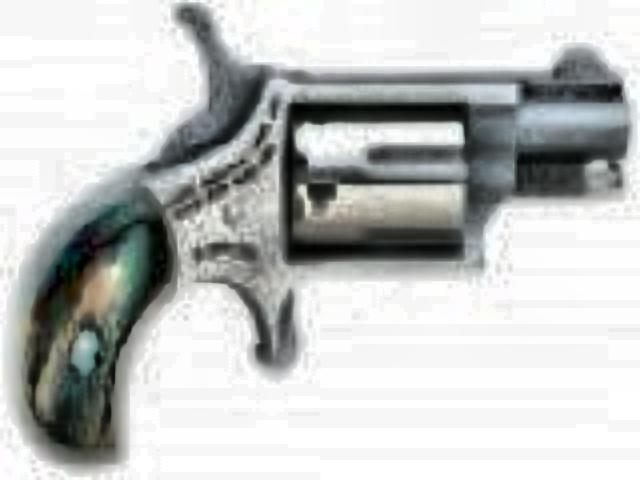pistol: (8, 4, 624, 456)
